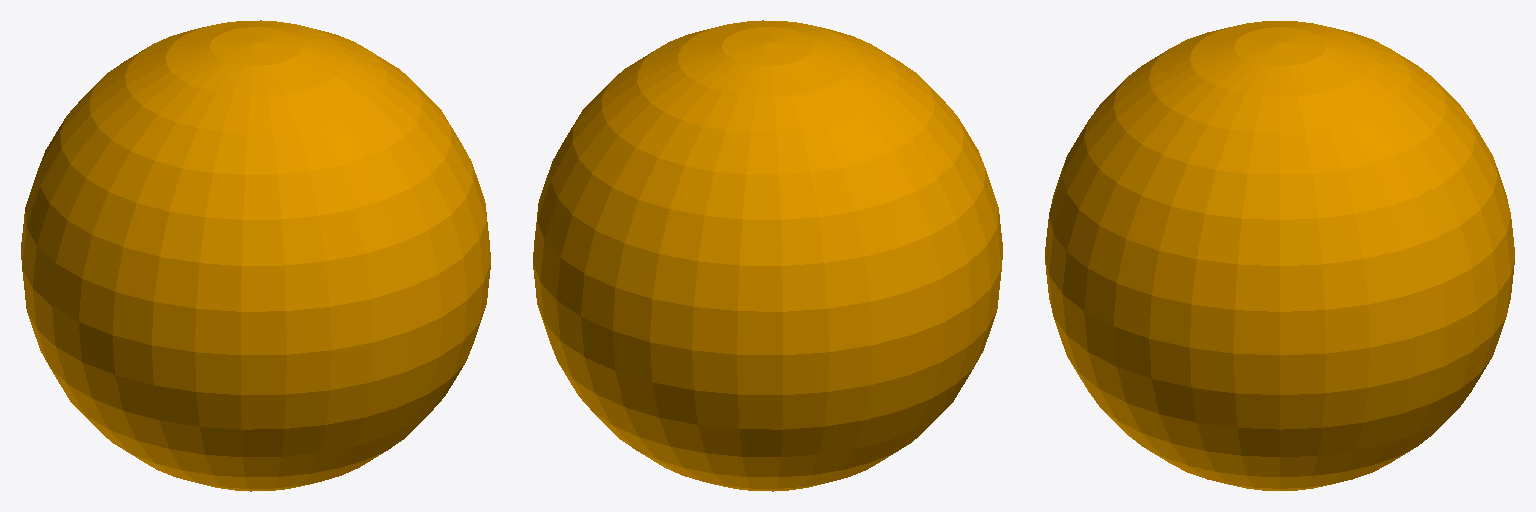
The robot description file, URDF, robot "r300":
<?xml version="1.0" ?>
<!-- =================================================================================== -->
<!-- |    This document was autogenerated by xacro from r300_robot.xacro               | -->
<!-- |    EDITING THIS FILE BY HAND IS NOT RECOMMENDED                                 | -->
<!-- =================================================================================== -->
<robot name="r300">
  <link name="left_arm_base">
    <visual>
      <geometry>
        <mesh filename="./meshes/xmate3/meshes/visual/xmate3_base.stl" scale="0.001 0.001 0.001"/>
      </geometry>
      <origin rpy="0 0 0" xyz="0.0 0.0 0.0"/>
      <material name="left_white"/>
    </visual>
    <inertial>
      <mass value="5.48267"/>
      <inertia ixx="0.056" ixy="0" ixz="0" iyy="0.066" iyz="0" izz="0.035"/>
      <origin rpy="0 0 0" xyz="-0.0183 0 0.067"/>
    </inertial>
    <collision>
      <geometry>
        <mesh filename="./meshes/xmate3/meshes/collision/xmate3_base.stl" scale="0.001 0.001 0.001"/>
      </geometry>
      <origin rpy="0 0 0" xyz="0.0 0.0 0.0"/>
    </collision>
  </link>
  <joint name="left_arm_joint_1" type="revolute">
    <parent link="left_arm_base"/>
    <child link="left_arm_link1"/>
    <limit effort="300" lower="-3.0527" upper="3.0527" velocity="10"/>
    <axis xyz="0 0 1"/>
    <origin rpy="0 0 0" xyz="0 0 0"/>
  </joint>
  <transmission name="left_tran1">
    <type>transmission_interface/SimpleTransmission</type>
    <joint name="left_arm_joint_1">
      <hardwareInterface>EffortJointInterface</hardwareInterface>
    </joint>
    <actuator name="motor1">
      <hardwareInterface>EffortJointInterface</hardwareInterface>
      <mechanicalReduction>1</mechanicalReduction>
    </actuator>
  </transmission>
  <!--link 1-->
  <link name="left_arm_link1">
    <visual>
      <geometry>
        <mesh filename="./meshes/xmate3/meshes/visual/xmate3_link1.stl" scale="0.001 0.001 0.001"/>
      </geometry>
      <origin rpy="0 0 0" xyz="0 0 0"/>
      <material name="left_white"/>
    </visual>
    <inertial>
      <mass value="3.37289"/>
      <inertia ixx="0.314" ixy="0" ixz="0" iyy="0.310" iyz="0" izz="0.01"/>
      <origin rpy="0 0 0" xyz="0 -0.023 0.295"/>
    </inertial>
    <collision>
      <geometry>
        <mesh filename="./meshes/xmate3/meshes/collision/xmate3_link1.stl" scale="0.001 0.001 0.001"/>
      </geometry>
      <origin rpy="0 0 0" xyz="0 0 0"/>
    </collision>
  </link>
  <joint name="left_arm_joint_2" type="revolute">
    <parent link="left_arm_link1"/>
    <child link="left_arm_link2"/>
    <limit effort="300" lower="-2.0933" upper="2.0933" velocity="10"/>
    <axis xyz="0 1 0"/>
    <origin rpy="0 0 0" xyz="0 0 0.34260487"/>
  </joint>
  <transmission name="left_tran2">
    <type>transmission_interface/SimpleTransmission</type>
    <joint name="left_arm_joint_2">
      <hardwareInterface>EffortJointInterface</hardwareInterface>
    </joint>
    <actuator name="motor2">
      <hardwareInterface>EffortJointInterface</hardwareInterface>
      <mechanicalReduction>1</mechanicalReduction>
    </actuator>
  </transmission>
  <!--link 2-->
  <link name="left_arm_link2">
    <visual>
      <geometry>
        <mesh filename="./meshes/xmate3/meshes/visual/xmate3_link2.stl" scale="0.001 0.001 0.001"/>
      </geometry>
      <origin rpy="0 0 0" xyz="0 0 0.0"/>
      <material name="left_white"/>
    </visual>
    <inertial>
      <mass value="3.74765"/>
      <inertia ixx="0.074" ixy="0" ixz="0" iyy="0.067" iyz="0" izz="0.014"/>
      <origin rpy="0 0 0" xyz="0 0.032 0.095"/>
    </inertial>
    <collision>
      <geometry>
        <mesh filename="./meshes/xmate3/meshes/collision/xmate3_link2.stl" scale="0.001 0.001 0.001"/>
      </geometry>
      <origin rpy="0 0 0" xyz="0 0 0.0"/>
    </collision>
  </link>
  <joint name="left_arm_joint_3" type="revolute">
    <parent link="left_arm_link2"/>
    <child link="left_arm_link3"/>
    <limit effort="300" lower="-3.0527" upper="3.0527" velocity="10"/>
    <axis xyz="0 0 1"/>
    <origin rpy="0 0 0" xyz="0 0 0.23743878"/>
  </joint>
  <transmission name="left_tran3">
    <type>transmission_interface/SimpleTransmission</type>
    <joint name="left_arm_joint_3">
      <hardwareInterface>EffortJointInterface</hardwareInterface>
    </joint>
    <actuator name="motor3">
      <hardwareInterface>EffortJointInterface</hardwareInterface>
      <mechanicalReduction>1</mechanicalReduction>
    </actuator>
  </transmission>
  <!--${nameofManipulator}_link 3-->
  <link name="left_arm_link3">
    <visual>
      <geometry>
        <mesh filename="./meshes/xmate3/meshes/visual/xmate3_link3.stl" scale="0.001 0.001 0.001"/>
      </geometry>
      <origin rpy="0 0 0" xyz="0 0 0.15549959"/>
      <material name="left_white"/>
    </visual>
    <inertial>
      <mass value="3.38216"/>
      <inertia ixx="0.028" ixy="0" ixz="0" iyy="0.025" iyz="0" izz="0.01"/>
      <origin rpy="0 0 0" xyz="0 -0.023 -0.048"/>
    </inertial>
    <collision>
      <geometry>
        <mesh filename="./meshes/xmate3/meshes/collision/xmate3_link3.stl" scale="0.001 0.001 0.001"/>
      </geometry>
      <origin rpy="0 0 0" xyz="0 0 0.15549959"/>
    </collision>
  </link>
  <joint name="left_arm_joint_4" type="revolute">
    <parent link="left_arm_link3"/>
    <child link="left_arm_link4"/>
    <limit effort="300" lower="-2.0933" upper="2.0933" velocity="10"/>
    <!--     lower="-2.79" upper="2.79" -->
    <axis xyz="0 1 0"/>
    <!--     <origin rpy="0 0 0" xyz="0.585 0.0 0.035"/> -->
    <origin rpy="0 0 0" xyz="0 0 0.15549959"/>
  </joint>
  <transmission name="left_tran4">
    <type>transmission_interface/SimpleTransmission</type>
    <joint name="left_arm_joint_4">
      <hardwareInterface>EffortJointInterface</hardwareInterface>
    </joint>
    <actuator name="motor4">
      <hardwareInterface>EffortJointInterface</hardwareInterface>
      <mechanicalReduction>1</mechanicalReduction>
    </actuator>
  </transmission>
  <!--link 4-->
  <link name="left_arm_link4">
    <visual>
      <geometry>
        <mesh filename="./meshes/xmate3/meshes/visual/xmate3_link4.stl" scale=".001 0.001 0.001"/>
      </geometry>
      <origin rpy="0 0 0" xyz="0.0 0.0 0.0"/>
      <material name="left_white"/>
    </visual>
    <inertial>
      <mass value="3.21031"/>
      <inertia ixx="0.027" ixy="0" ixz="0" iyy="0.024" iyz="0" izz="0.007"/>
      <origin rpy="0 0 0" xyz="0 0.037 0.075"/>
    </inertial>
    <collision>
      <geometry>
        <mesh filename="./meshes/xmate3/meshes/collision/xmate3_link4.stl" scale="0.001 0.001 0.001"/>
      </geometry>
      <origin rpy="0 0 0" xyz="0.0 0.0 0.0"/>
    </collision>
  </link>
  <joint name="left_arm_joint_5" type="revolute">
    <parent link="left_arm_link4"/>
    <child link="left_arm_link5"/>
    <limit effort="300" lower="-3.0527" upper="3.0527" velocity="10"/>
    <axis xyz="0 0 1"/>
    <origin rpy="0 0 0" xyz="0 0 0.22044633"/>
  </joint>
  <transmission name="left_tran5">
    <type>transmission_interface/SimpleTransmission</type>
    <joint name="left_arm_joint_5">
      <hardwareInterface>EffortJointInterface</hardwareInterface>
    </joint>
    <actuator name="motor5">
      <hardwareInterface>EffortJointInterface</hardwareInterface>
      <mechanicalReduction>1</mechanicalReduction>
    </actuator>
  </transmission>
  <!--link 5-->
  <link name="left_arm_link5">
    <visual>
      <geometry>
        <mesh filename="./meshes/xmate3/meshes/visual/xmate3_link5.stl" scale="0.001 0.001 0.001"/>
      </geometry>
      <origin rpy="0 0 0" xyz="0 0 0.14512568"/>
      <material name="left_white"/>
    </visual>
    <inertial>
      <mass value="2.5992"/>
      <inertia ixx="0.022" ixy="0" ixz="0" iyy="0.018" iyz="0" izz="0.0076"/>
      <origin rpy="0 0 0" xyz="0 -0.025 -0.052"/>
    </inertial>
    <collision>
      <geometry>
        <mesh filename="./meshes/xmate3/meshes/collision/xmate3_link5.stl" scale="0.001 0.001 0.001"/>
      </geometry>
      <origin rpy="0 0 0" xyz="0 0 0.14512568"/>
    </collision>
  </link>
  <joint name="left_arm_joint_6" type="revolute">
    <parent link="left_arm_link5"/>
    <child link="left_arm_link6"/>
    <limit effort="300" lower="-2.0933" upper="2.0933" velocity="10"/>
    <axis xyz="0 1 0"/>
    <origin rpy="0.0 0.0 0" xyz="0 0 0.14512568"/>
  </joint>
  <transmission name="left_tran6">
    <type>transmission_interface/SimpleTransmission</type>
    <joint name="left_arm_joint_6">
      <hardwareInterface>EffortJointInterface</hardwareInterface>
    </joint>
    <actuator name="motor6">
      <hardwareInterface>EffortJointInterface</hardwareInterface>
      <mechanicalReduction>1</mechanicalReduction>
    </actuator>
  </transmission>
  <!--link 6-->
  <link name="left_arm_link6">
    <visual>
      <geometry>
        <mesh filename="./meshes/xmate3/meshes/visual/xmate3_link6.stl" scale="0.001 0.001 0.001"/>
      </geometry>
      <origin rpy="0 0 0" xyz="0.0 0.0 0.0"/>
      <material name="left_white"/>
    </visual>
    <inertial>
      <mass value="2.6002"/>
      <inertia ixx="0.016" ixy="-0.000000" ixz="-0.000000" iyy="0.0156" iyz="-0.000000" izz="0.0042"/>
      <origin rpy="0 0 0" xyz="0 0.02 0.073"/>
    </inertial>
    <collision>
      <geometry>
        <mesh filename="./meshes/xmate3/meshes/collision/xmate3_link6.stl" scale="0.001 0.001 0.001"/>
      </geometry>
      <origin rpy="0 0 0" xyz="0.0 0.0 0.0"/>
    </collision>
  </link>
  <joint name="left_arm_joint_7" type="revolute">
    <parent link="left_arm_link6"/>
    <child link="left_arm_link7"/>
    <limit effort="300" lower="-6.283" upper="6.283" velocity="10"/>
    <axis xyz="0 0 1"/>
    <origin rpy="0.0 0.0 0.0" xyz="0 0 0.25090877"/>
  </joint>
  <transmission name="left_tran7">
    <type>transmission_interface/SimpleTransmission</type>
    <joint name="left_arm_joint_7">
      <hardwareInterface>EffortJointInterface</hardwareInterface>
    </joint>
    <actuator name="motor7">
      <hardwareInterface>EffortJointInterface</hardwareInterface>
      <mechanicalReduction>1</mechanicalReduction>
    </actuator>
  </transmission>
  <!--link 7-->
  <link name="left_arm_link7">
    <visual>
      <geometry>
        <mesh filename="./meshes/xmate3/meshes/visual/xmate3_link7.stl" scale="0.001 0.001 0.001"/>
      </geometry>
      <origin rpy="0 0 0" xyz="0 0 0"/>
      <material name="left_white"/>
    </visual>
    <inertial>
      <mass value="1.50517"/>
      <inertia ixx="0.0037" ixy="0" ixz="0" iyy="0.0021" iyz="0" izz="0.0030"/>
      <origin rpy="0 0 0" xyz="0 0.023 -0.044"/>
    </inertial>
    <collision>
      <geometry>
        <mesh filename="./meshes/xmate3/meshes/collision/xmate3_link7.stl" scale="0.001 0.001 0.001"/>
      </geometry>
      <origin rpy="0 0 0" xyz="0 0 0"/>
    </collision>
  </link>
  <joint name="tobor_grasptarget_hand" type="fixed">
    <parent link="left_arm_link7"/>
    <child link="robotiq85_grasp_target"/>
    <origin rpy="0 0 0" xyz="0 0 0.15"/>
  </joint>
  <link name="robotiq85_grasp_target">
    <visual>  
      <geometry>  
        <sphere radius="0.01"/>  
      </geometry>  
      <origin rpy="0 0 0" xyz="0 0 0"/>  
    </visual>  
    <inertial>
      <origin rpy="0 0 0" xyz="0 0 0"/>
      <mass value="0.0"/>
      <inertia ixx="0.1" ixy="0" ixz="0" iyy="0.1" iyz="0" izz="0.1"/>
    </inertial>
  </link>
</robot>

--- Facts derived from the render (not from the file) ---
3 views of the same robot in one strip: view 1: azimuth 30°, elevation 25°; view 2: azimuth 150°, elevation 25°; view 3: azimuth 270°, elevation 25° (orthographic).
Robot: r300 — 9 links, 8 joints (7 revolute, 1 fixed); root link left_arm_base; default pose: every joint at zero.
Visible links, largest first — view 1: robotiq85_grasp_target; view 2: robotiq85_grasp_target; view 3: robotiq85_grasp_target.
Link boxes in pixels (x1,y1,x2,y2): robotiq85_grasp_target: (21,20,490,491); robotiq85_grasp_target: (533,20,1002,491); robotiq85_grasp_target: (1045,21,1514,490).
Bounding box of the posed robot: 0.02 × 0.02 × 0.02 m (x, y, z).
0 mesh visuals loaded from 8 distinct referenced files (none loaded); not drawn: 8 (reference not matched to a file when rendering).